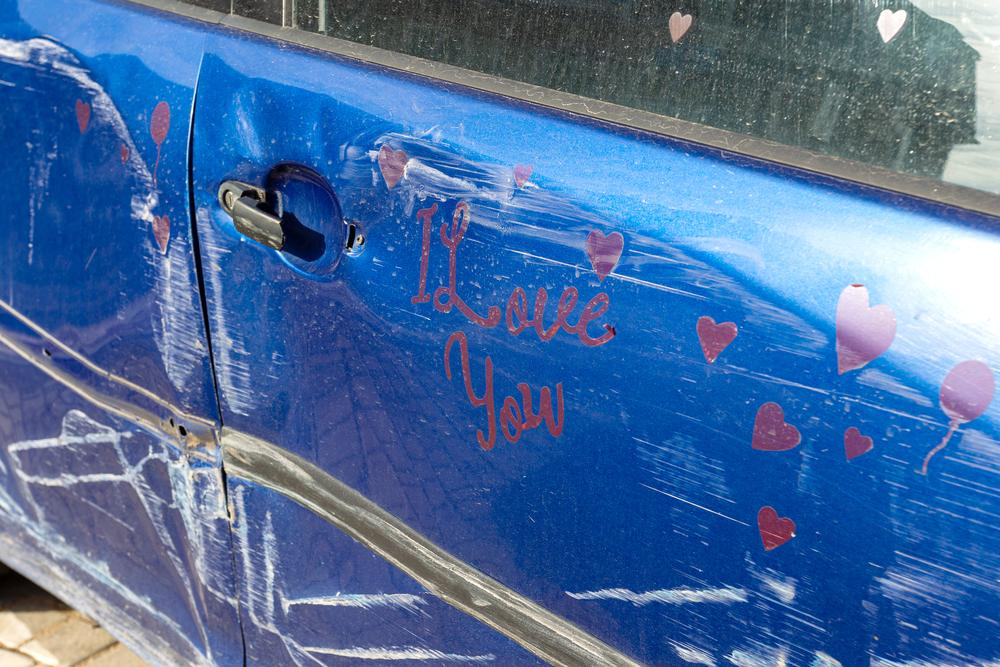dent: (0, 48, 209, 659), (234, 78, 487, 332), (267, 294, 438, 604)
scratch: (466, 155, 1000, 667), (233, 484, 499, 667), (0, 511, 215, 667), (430, 543, 650, 667), (196, 211, 254, 416), (188, 466, 239, 621), (164, 235, 212, 399)
